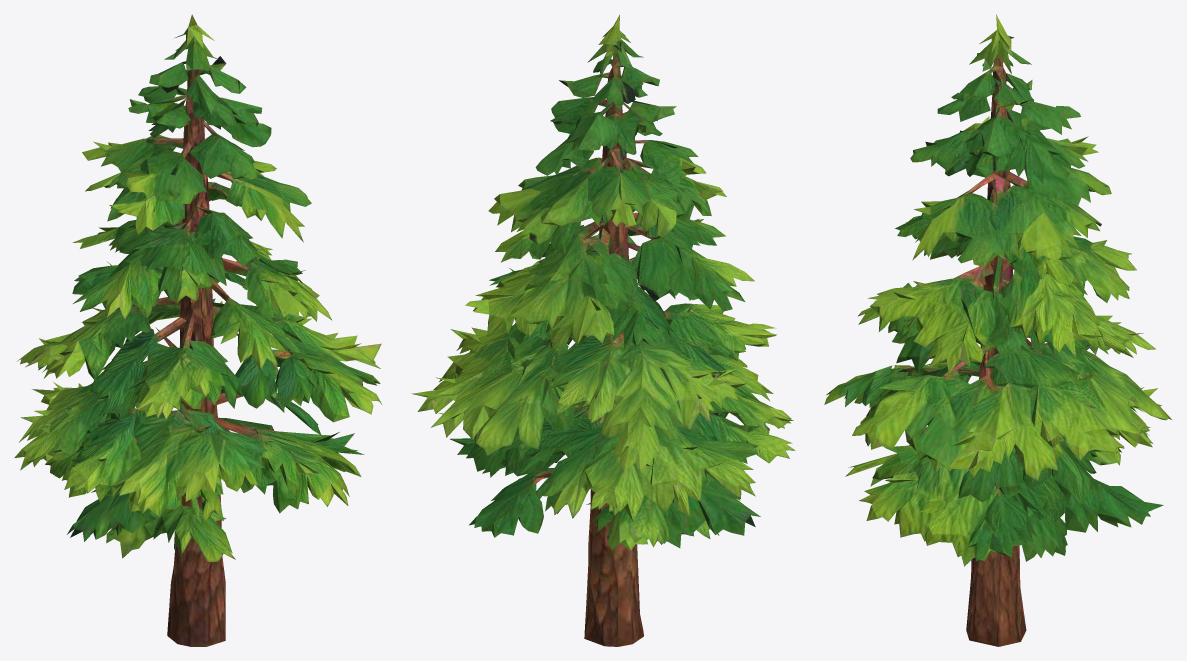
Rendered from pine.glb.
3 views of the same model, side by side, from view 1: azimuth 30°, elevation 25°; view 2: azimuth 150°, elevation 25°; view 3: azimuth 270°, elevation 25° (orthographic).
Parts seen in each view (by area): view 1: Mesh_0; view 2: Mesh_0; view 3: Mesh_0.
Boxes of the visible parts, box(x1,y1,x2,y2) form: Mesh_0: box(14, 14, 381, 646); Mesh_0: box(411, 14, 795, 646); Mesh_0: box(824, 14, 1171, 646).
Size of the model in its own units: 1.07 by 1.9 by 0.972.
Materials: 1 (1 with a texture image).
